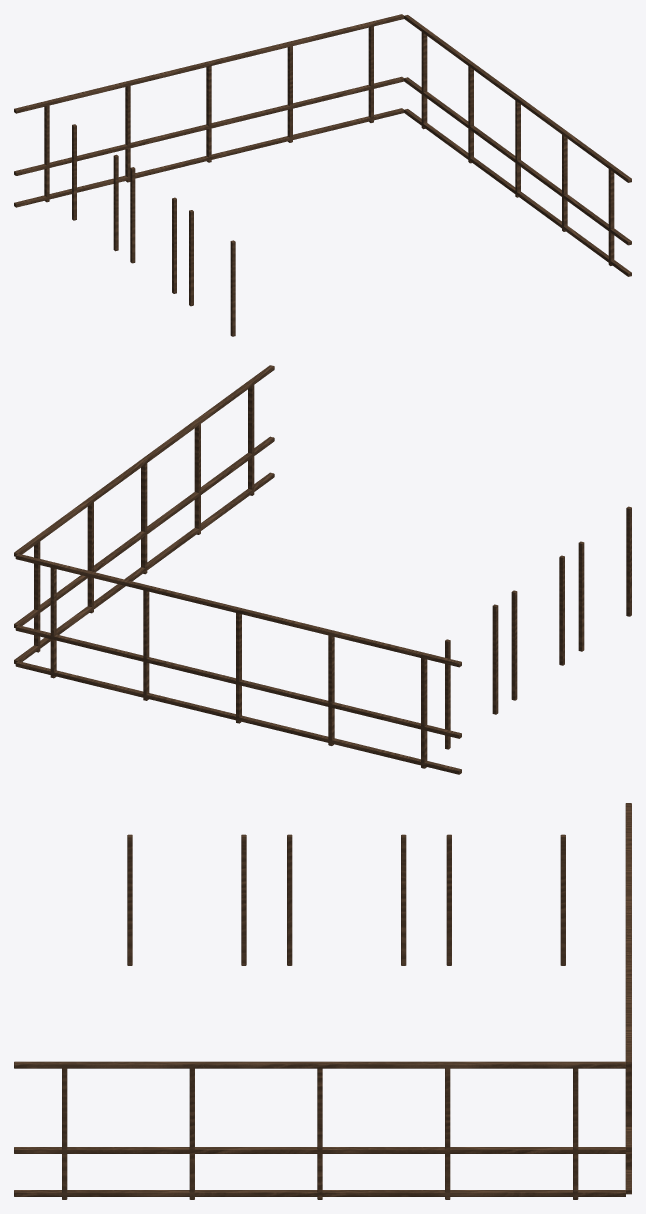
The model's file is ArchiveJoinery.fbx.
3 views of the same model, one above another, from view 1: azimuth 30°, elevation 25°; view 2: azimuth 150°, elevation 25°; view 3: azimuth 270°, elevation 25° (orthographic). The views are drawn at different scales.
Parts seen in each view (by area): view 1: ArchiveJoinery; view 2: ArchiveJoinery; view 3: ArchiveJoinery.
Boxes of the visible parts, x1,y1,x2,y2 form: ArchiveJoinery: (14,14,631,336); ArchiveJoinery: (14,365,631,774); ArchiveJoinery: (14,803,631,1199).
Size of the model in its own units: 1161 by 287 by 1161.
1 material, 1 textured.
